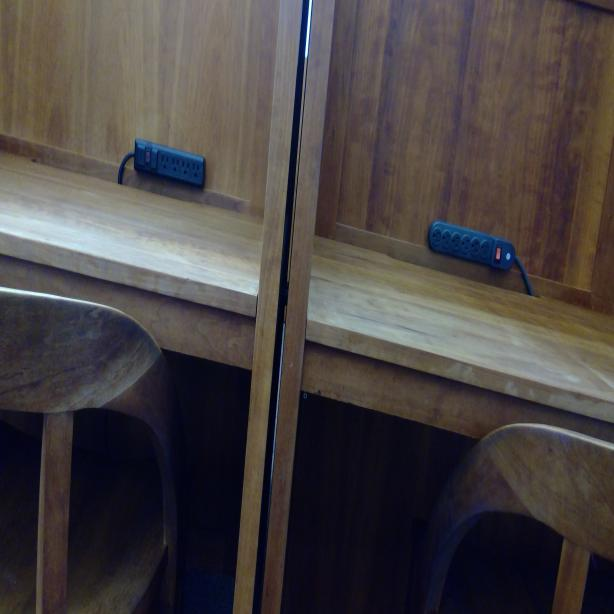typeb: (158, 148, 170, 173), (442, 229, 453, 253), (480, 239, 491, 263), (432, 222, 442, 248), (191, 160, 201, 185), (470, 237, 480, 260), (461, 234, 470, 259), (171, 154, 181, 176), (452, 233, 462, 254), (182, 158, 191, 179)
